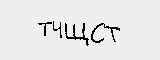С: (89, 21, 110, 46)
Т: (103, 24, 121, 43), (34, 19, 50, 39)
Ч: (51, 19, 63, 40)
Щ: (63, 20, 88, 47)
